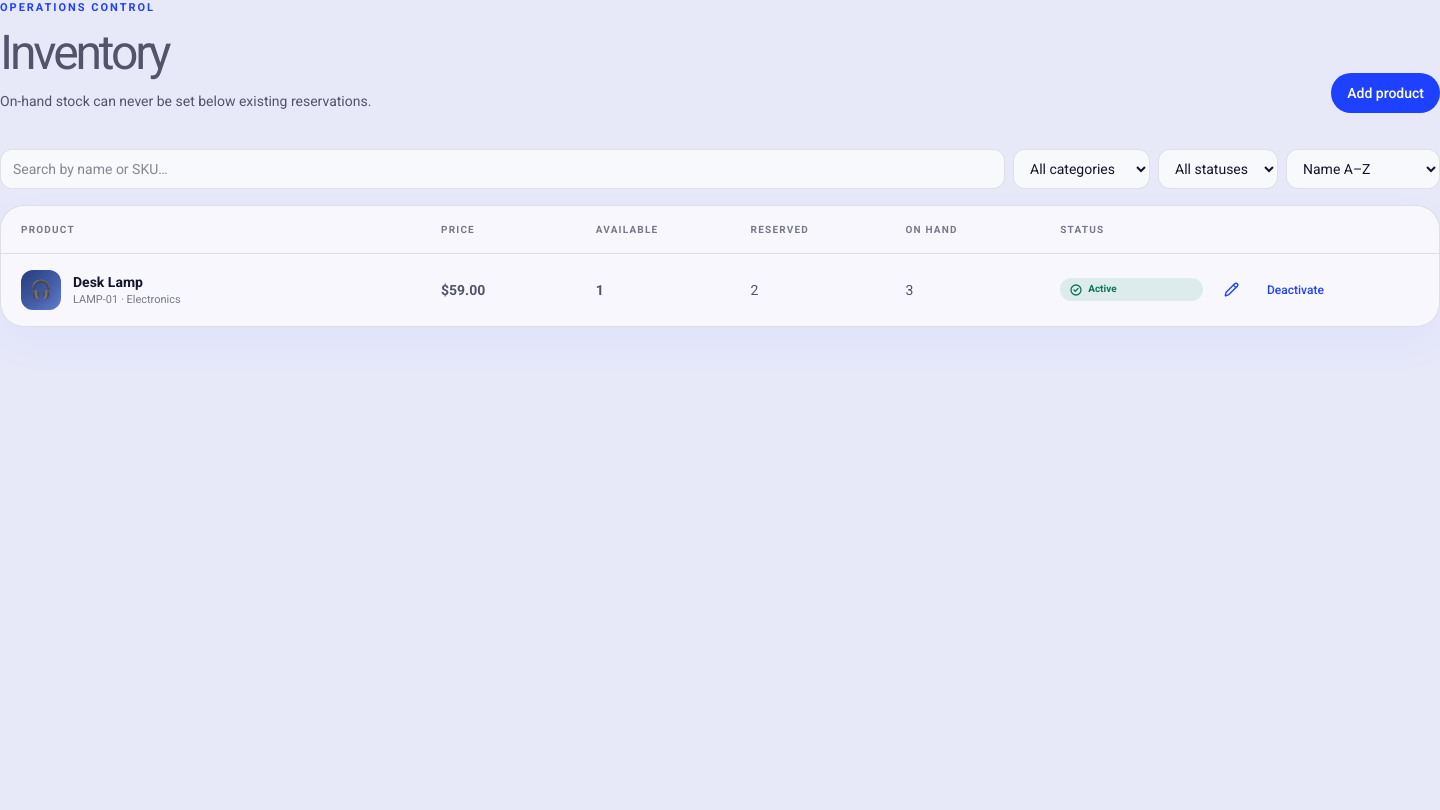
Test: AdminInventory › surfaces the server conflict when the API rejects a stock update
Check: the text "Desk Lamp" is shown, box [73,274,143,290]
Click the button named "Edit Desk Lamp" at (1231,290), box [1215,274,1247,306]
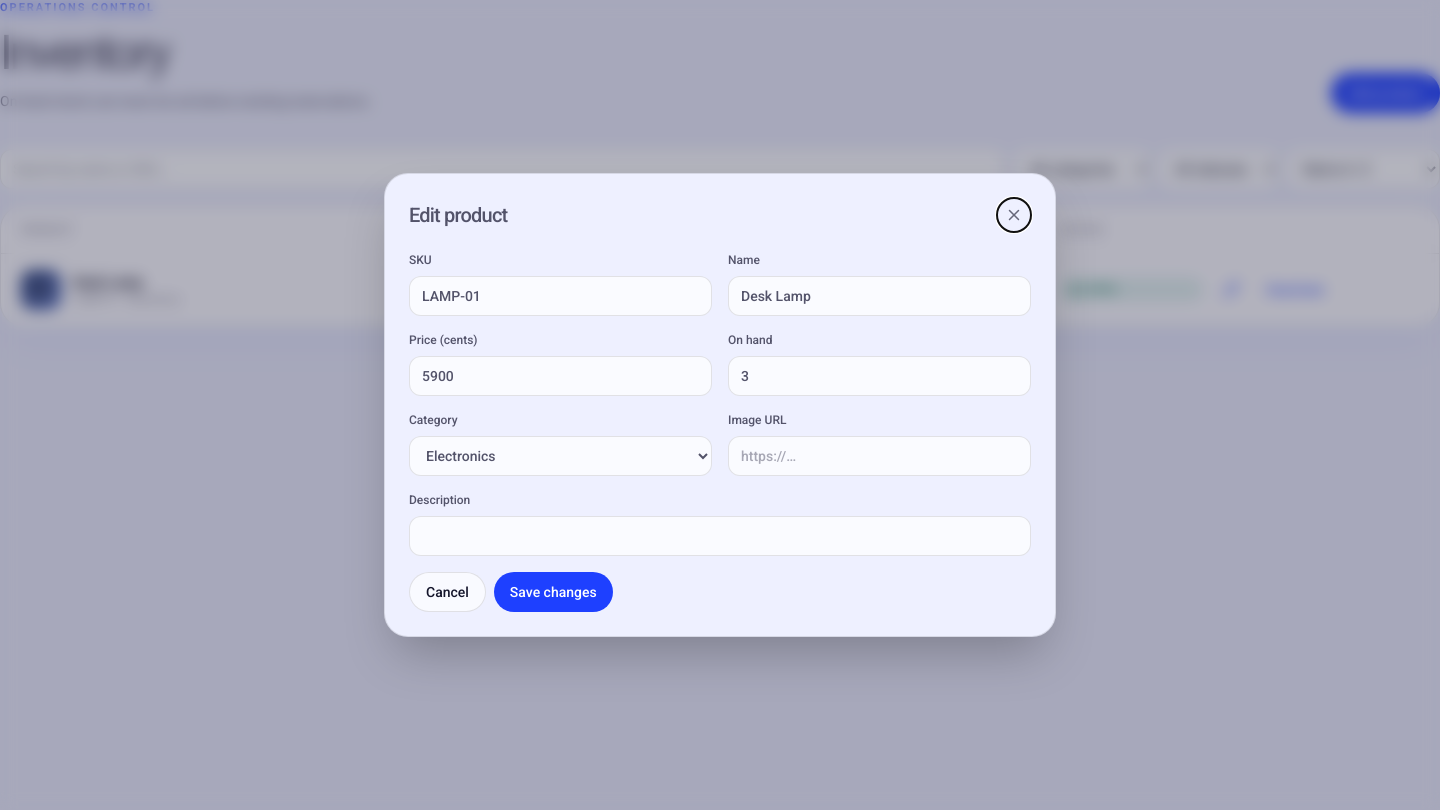
Replace the text in the number field labelled "On hand" with "5" at (880,376), box [728,356,1031,396]
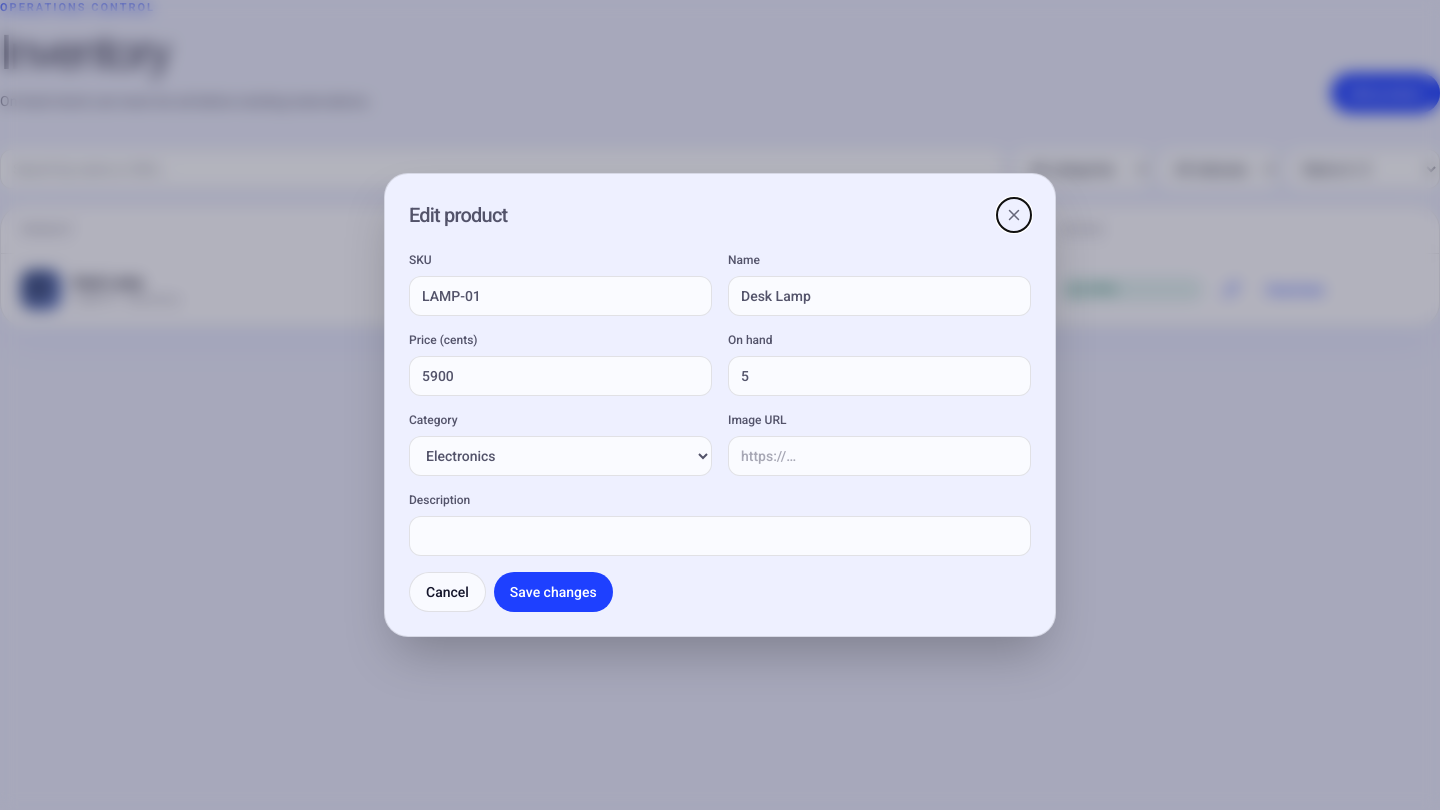
Click the button "Save changes" at (553,592), box [494,572,613,612]
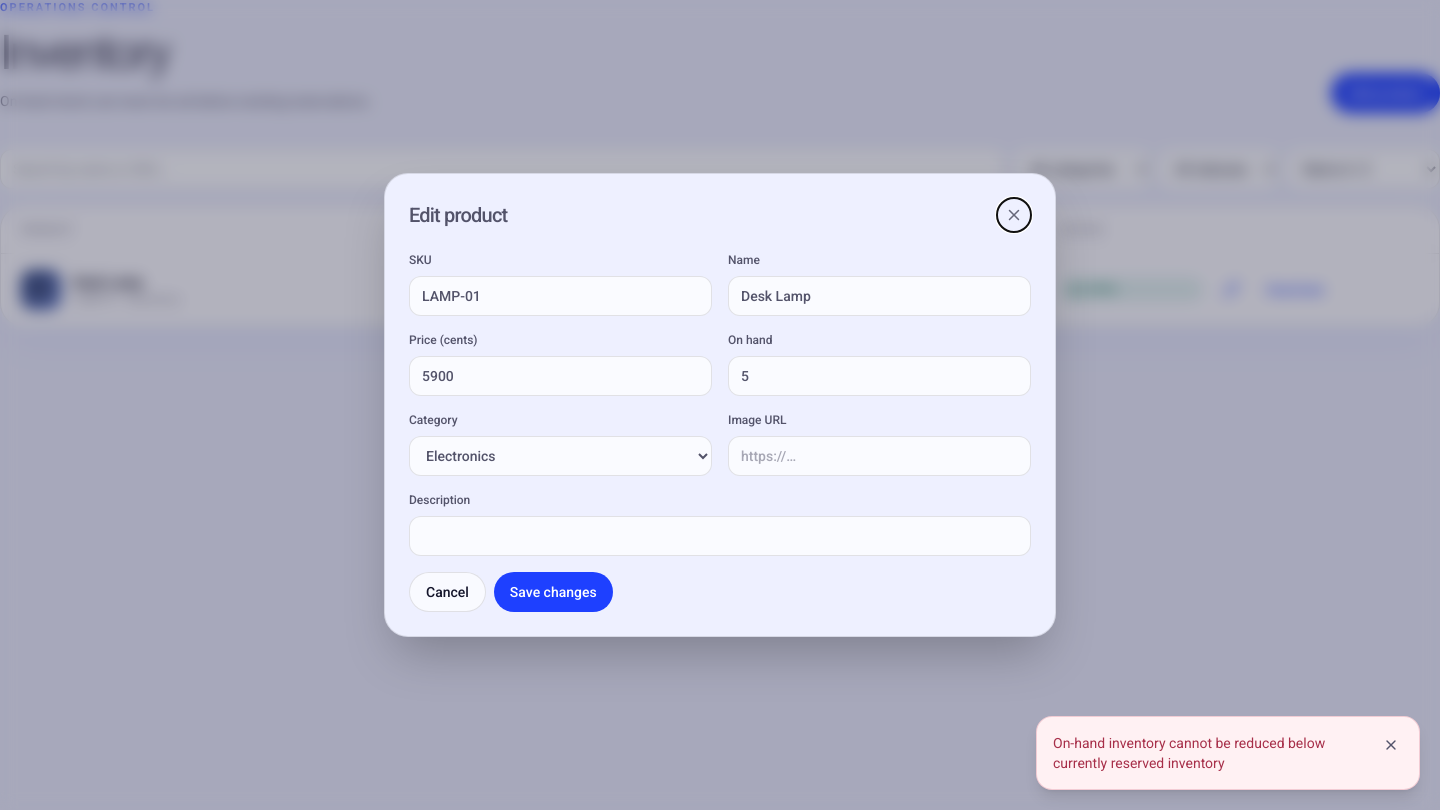
Check: the text "On-hand inventory cannot be reduced below currently reserved inventory" is shown, box [1053,733,1359,773]
